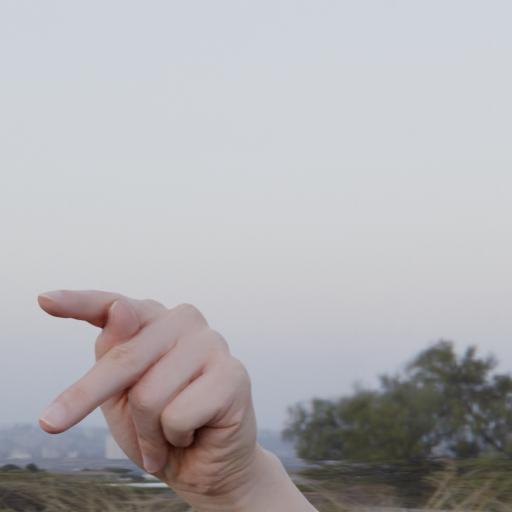P: (6, 246, 300, 512)
